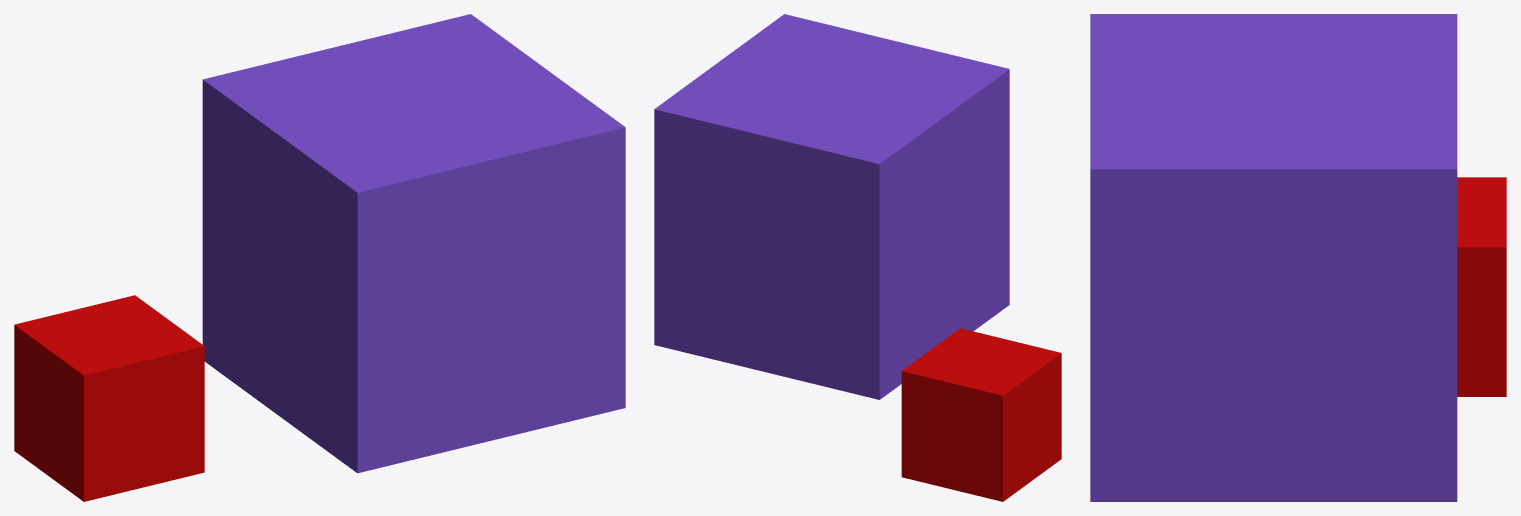
Rendered from base_visibility.dae.
3 views of the same model, side by side, from view 1: azimuth 30°, elevation 25°; view 2: azimuth 150°, elevation 25°; view 3: azimuth 270°, elevation 25° (orthographic). The views are drawn at different scales.
Visible parts, largest first — view 1: Cube1, Cube2; view 2: Cube1, Cube2; view 3: Cube1, Cube2.
Boxes of the visible parts, left/top/right/bottom form: Cube1: left=202, top=14, right=625, bottom=473; Cube2: left=14, top=295, right=204, bottom=501; Cube1: left=654, top=14, right=1009, bottom=399; Cube2: left=901, top=328, right=1061, bottom=501; Cube1: left=1090, top=14, right=1457, bottom=501; Cube2: left=1457, top=177, right=1506, bottom=396.
Bounding box in the file's own units: 3.25 × 2.27 × 2.46.
